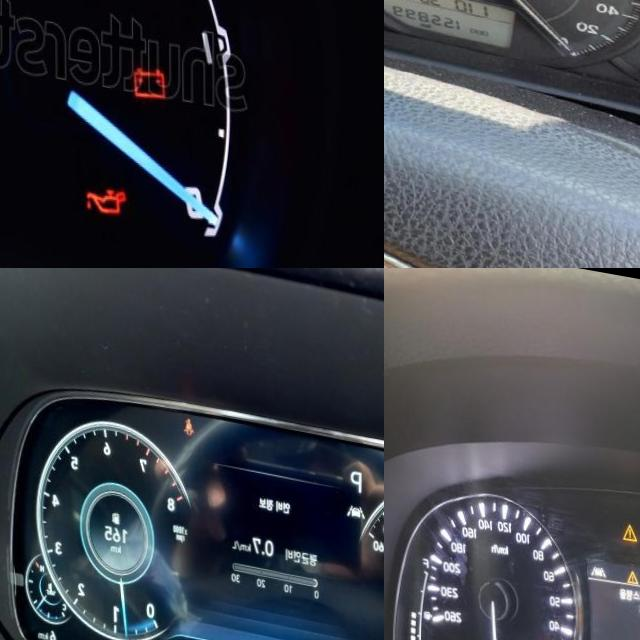Central Warning lamp: (622, 511, 639, 534)
LaneCenteringOff: (347, 490, 365, 505)
